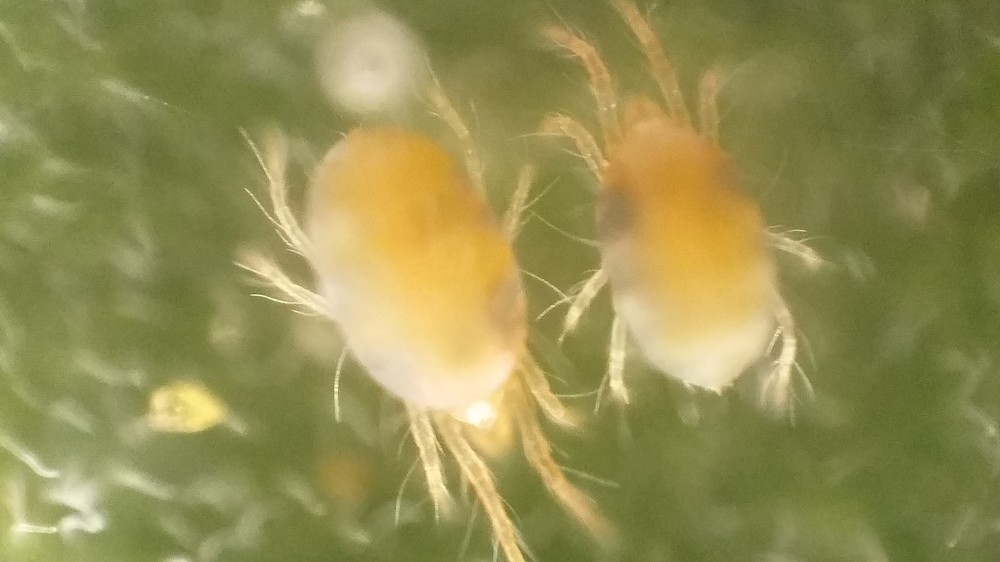Aracnido Rojo: (235, 88, 632, 553), (528, 19, 844, 435)
